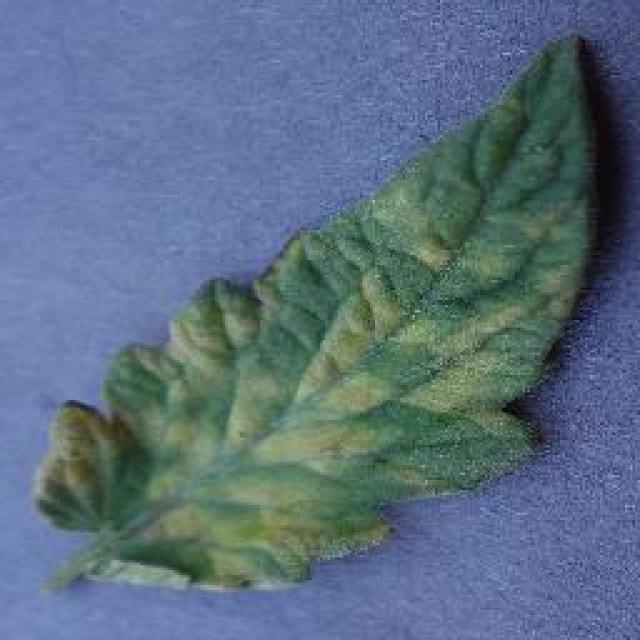Tom_Leaf_Mold: (154, 280, 446, 544)
